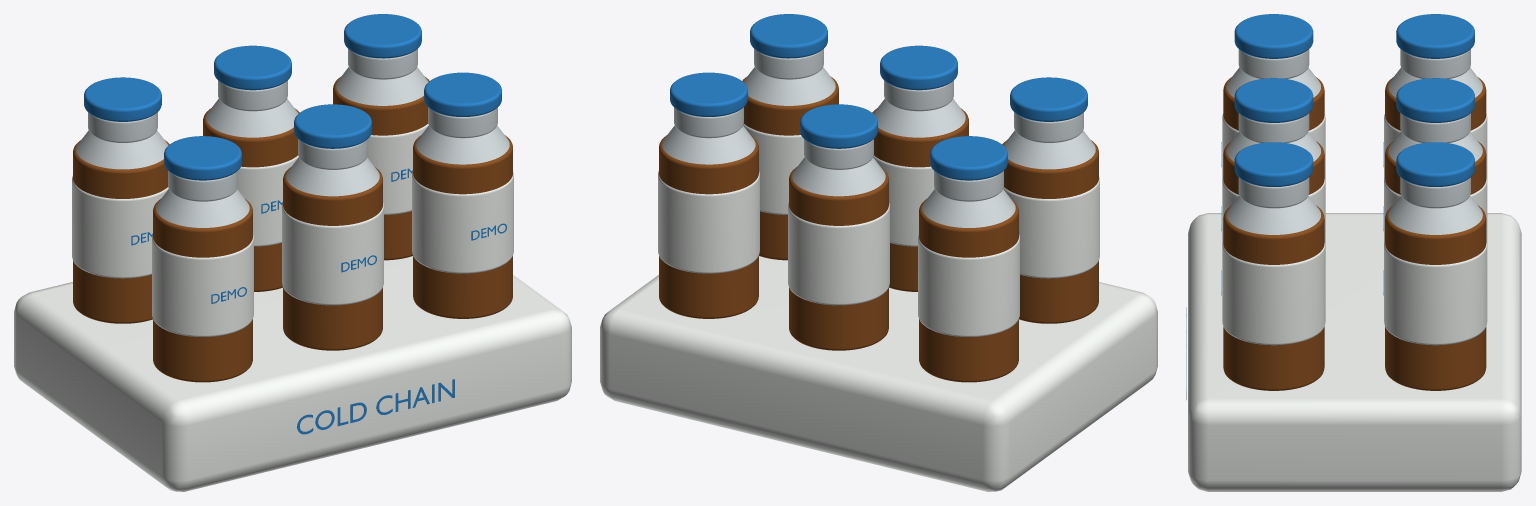
Rendered from 07_Coldchain_Vials.glb.
3 renders of one model, left to right at view 1: azimuth 30°, elevation 25°; view 2: azimuth 150°, elevation 25°; view 3: azimuth 270°, elevation 25°, orthographic.
Visible parts, largest first — view 1: SM_Foam transport rack, SM_Vial wrap label.004, SM_Vial wrap label, SM_Vial wrap label.002, SM_Vial amber glass, SM_Vial amber glass.004, SM_Vial amber glass.002, SM_Vial amber glass.001, SM_Vial wrap label.001, SM_Vial amber glass.005, SM_Vial amber glass.003, SM_Flip cap.003 (+20 smaller); view 2: SM_Foam transport rack, SM_Vial wrap label.003, SM_Vial wrap label.005, SM_Vial wrap label.001, SM_Vial amber glass.001, SM_Vial amber glass.005, SM_Vial amber glass.003, SM_Vial wrap label, SM_Vial amber glass, SM_Vial amber glass.004, SM_Vial amber glass.002, SM_Vial wrap label.004 (+19 smaller); view 3: SM_Foam transport rack, SM_Vial wrap label.004, SM_Vial wrap label.005, SM_Vial amber glass.005, SM_Vial amber glass.004, SM_Flip cap.004, SM_Flip cap, SM_Flip cap.002, SM_Flip cap.001, SM_Flip cap.005, SM_Flip cap.003, SM_Vial shoulder.005 (+19 smaller).
Part boxes in pixels (left/top/right/bottom): SM_Foam transport rack: left=14, top=256, right=571, bottom=491; SM_Vial wrap label.004: left=412, top=171, right=513, bottom=273; SM_Vial wrap label: left=152, top=234, right=253, bottom=336; SM_Vial wrap label.002: left=282, top=202, right=383, bottom=305; SM_Vial amber glass: left=153, top=199, right=252, bottom=382; SM_Vial amber glass.004: left=413, top=135, right=512, bottom=318; SM_Vial amber glass.002: left=283, top=166, right=382, bottom=350; SM_Vial amber glass.001: left=73, top=140, right=169, bottom=323; SM_Vial wrap label.001: left=72, top=176, right=168, bottom=278; SM_Vial amber glass.005: left=333, top=76, right=429, bottom=260; SM_Vial amber glass.003: left=203, top=108, right=299, bottom=291; SM_Flip cap.003: left=214, top=45, right=291, bottom=90; SM_Foam transport rack: left=600, top=256, right=1157, bottom=491; SM_Vial wrap label.003: left=788, top=202, right=889, bottom=305; SM_Vial wrap label.005: left=658, top=171, right=759, bottom=273; SM_Vial wrap label.001: left=918, top=234, right=1019, bottom=336; SM_Vial amber glass.001: left=919, top=199, right=1018, bottom=382; SM_Vial amber glass.005: left=659, top=135, right=758, bottom=318; SM_Vial amber glass.003: left=789, top=166, right=888, bottom=350; SM_Vial wrap label: left=1003, top=176, right=1099, bottom=278; SM_Vial amber glass: left=1002, top=140, right=1098, bottom=323; SM_Vial amber glass.004: left=742, top=76, right=838, bottom=260; SM_Vial amber glass.002: left=872, top=108, right=968, bottom=291; SM_Vial wrap label.004: left=743, top=124, right=804, bottom=214; SM_Foam transport rack: left=1188, top=213, right=1521, bottom=491; SM_Vial wrap label.004: left=1222, top=242, right=1325, bottom=345; SM_Vial wrap label.005: left=1384, top=242, right=1487, bottom=345; SM_Vial amber glass.005: left=1385, top=205, right=1486, bottom=390; SM_Vial amber glass.004: left=1223, top=205, right=1324, bottom=390; SM_Flip cap.004: left=1234, top=142, right=1313, bottom=186; SM_Flip cap: left=1234, top=14, right=1313, bottom=58; SM_Flip cap.002: left=1234, top=78, right=1313, bottom=122; SM_Flip cap.001: left=1396, top=14, right=1474, bottom=58; SM_Flip cap.005: left=1396, top=142, right=1474, bottom=186; SM_Flip cap.003: left=1396, top=78, right=1474, bottom=122; SM_Vial shoulder.005: left=1388, top=196, right=1482, bottom=234.
Bounding box in the file's own units: 0.094 × 0.0665 × 0.0663.
